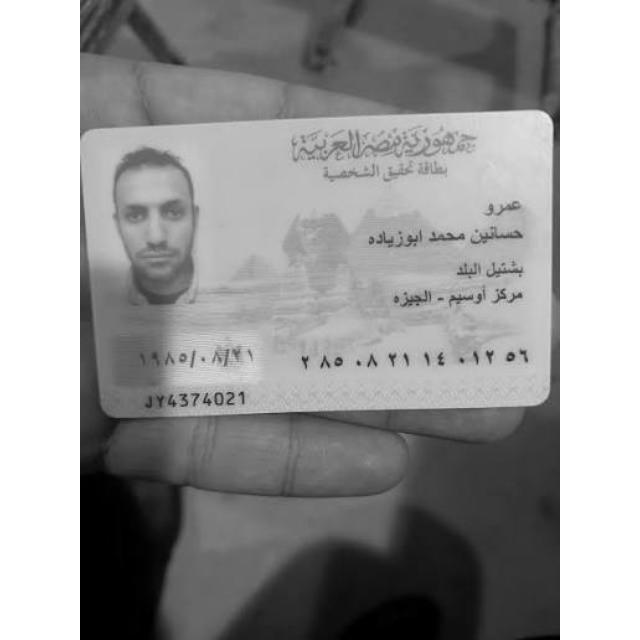id_card: (82, 112, 553, 419)
